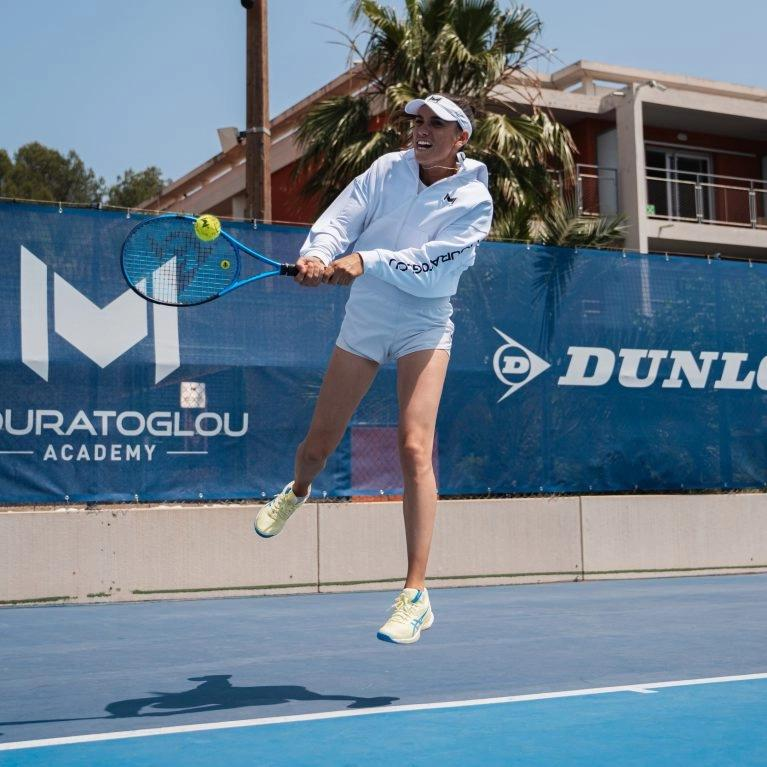ball_tennis: (193, 213, 219, 240)
